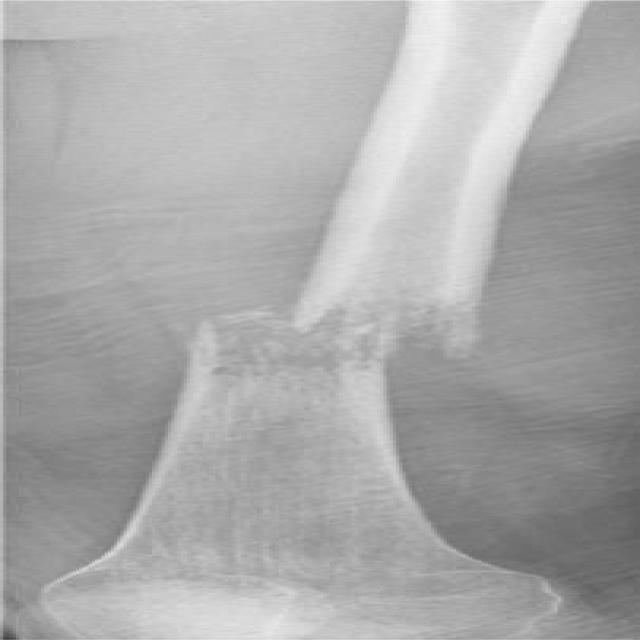pathological: (109, 258, 530, 417)
